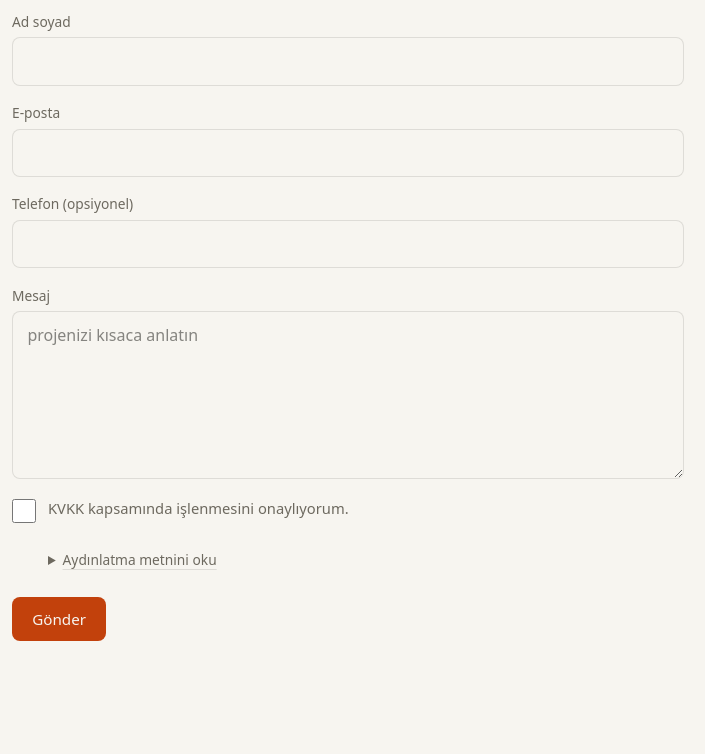
Scenario: ContactForm › shows per-field invalid messages + aria-invalid and never POSTs
Click the checkbox. click: (24, 511)
box: [12, 499, 36, 523]
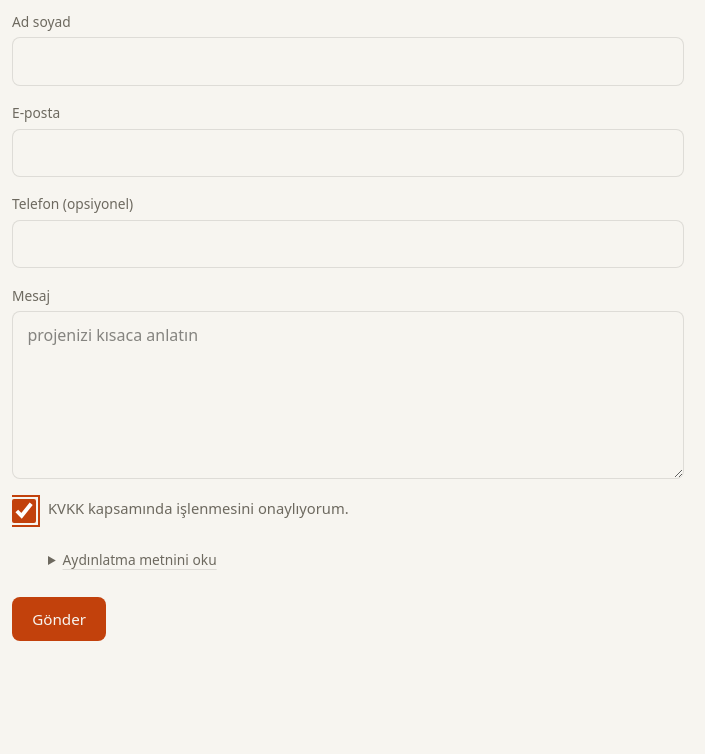
Click the button "Gönder". click: (59, 619)
box: [12, 597, 106, 641]
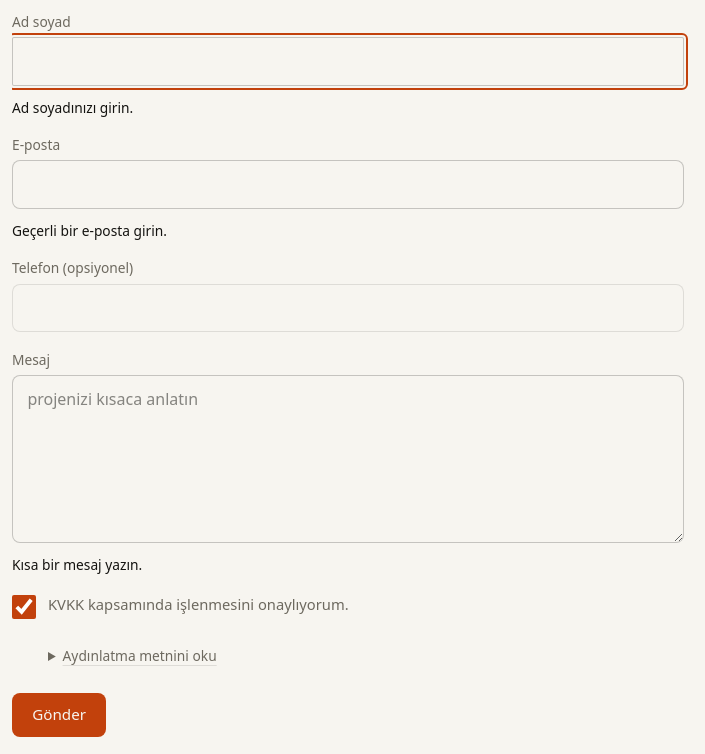
Expected: the text "Geçerli bir e-posta girin." is shown, [12, 221, 167, 240]
